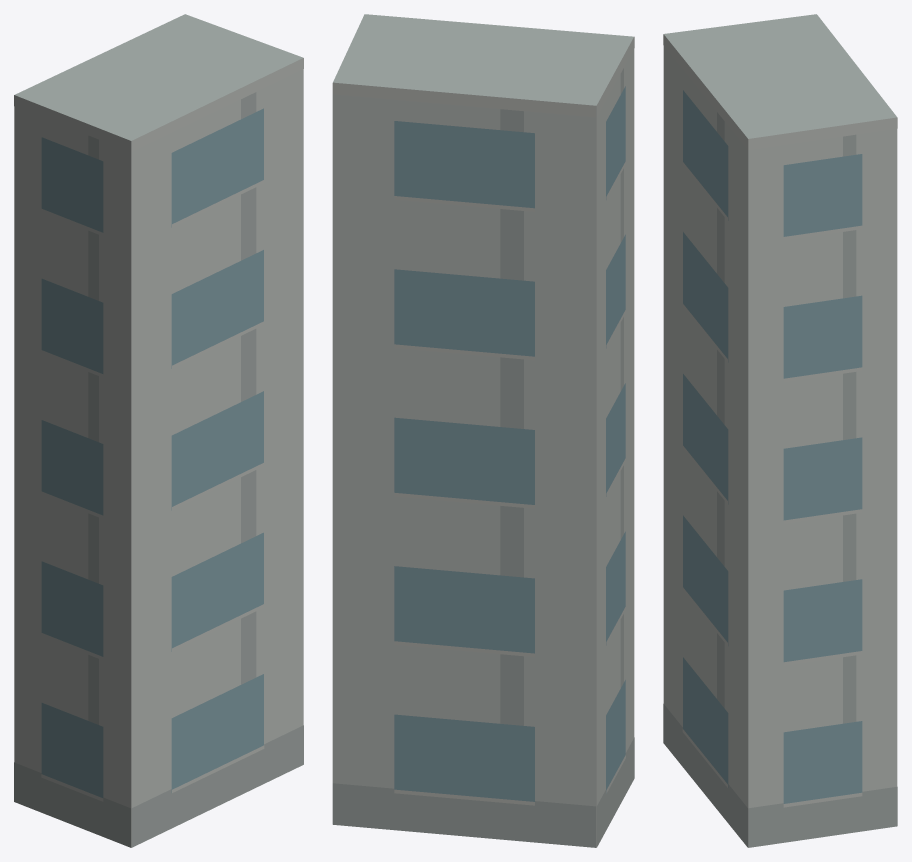
File: survey-upis-32646734.glb
3 renders of one model, left to right at view 1: azimuth 30°, elevation 25°; view 2: azimuth 150°, elevation 25°; view 3: azimuth 270°, elevation 25°, orthographic. The views are drawn at different scales.
Visible parts, largest first — view 1: survey-upis-32646734.tmp; view 2: survey-upis-32646734.tmp; view 3: survey-upis-32646734.tmp.
Part boxes in pixels (box(x1,y1,x2,y2)): survey-upis-32646734.tmp: box(14, 14, 303, 847); survey-upis-32646734.tmp: box(332, 14, 634, 847); survey-upis-32646734.tmp: box(663, 14, 897, 847).
Size of the model in its own units: 5.77 by 15.25 by 4.57.
